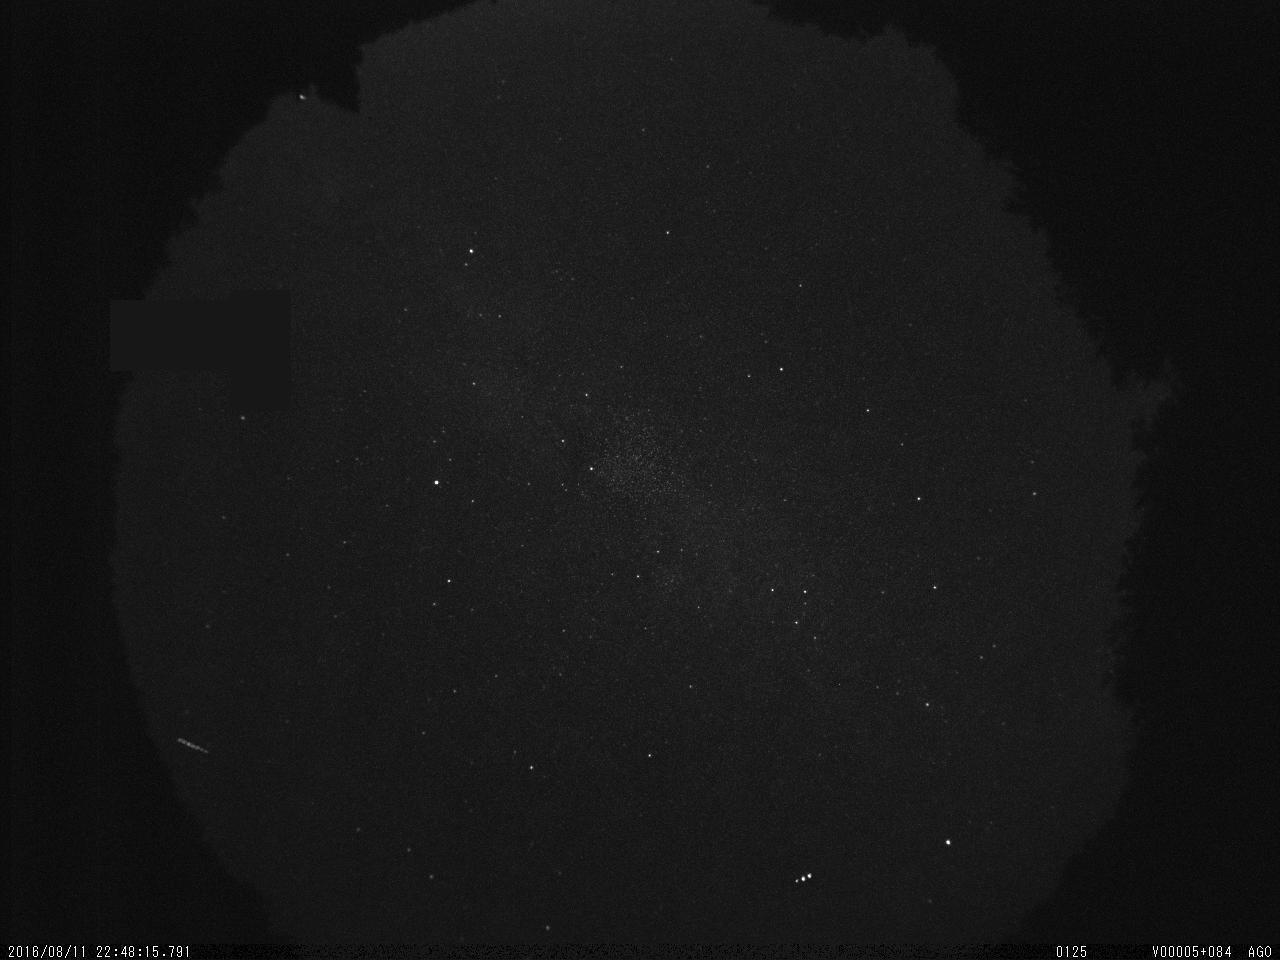meteor: (172, 728, 222, 760)
